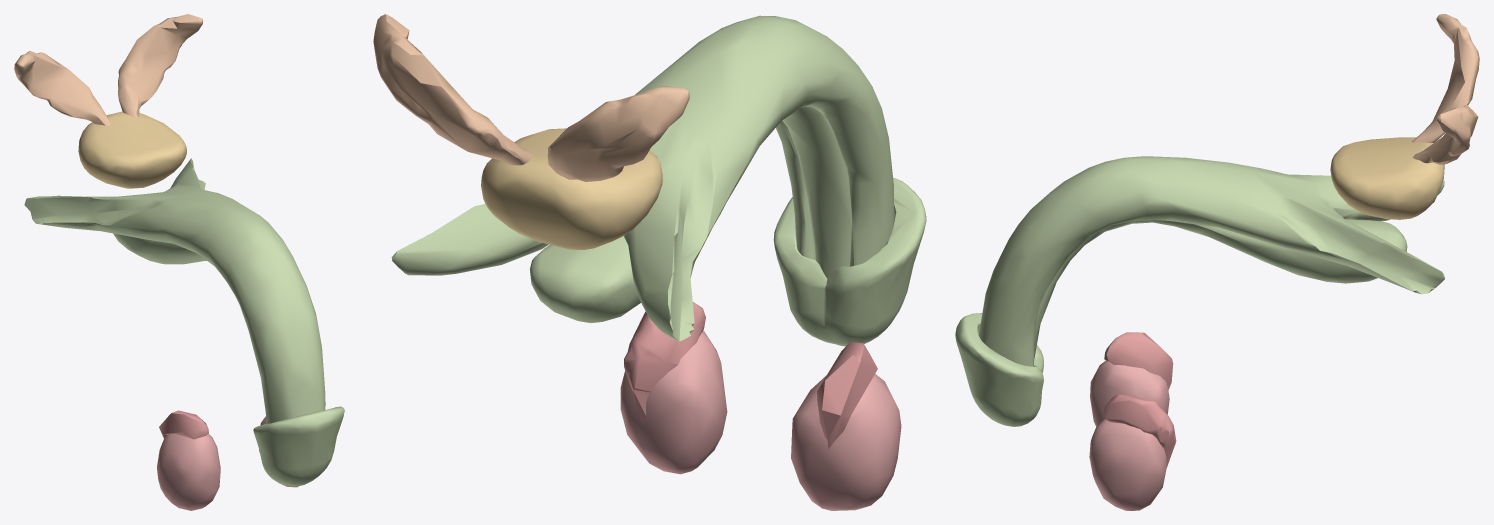
The model's file is male-reproductive.v1.glb.
3 views of the same model, side by side, from view 1: azimuth 30°, elevation 25°; view 2: azimuth 150°, elevation 25°; view 3: azimuth 270°, elevation 25° (orthographic). The views are drawn at different scales.
Visible parts, largest first — view 1: corpus_cavernosum_of_penis, prostate, glans_penis, left_seminal_vesicle, right_testis, right_seminal_vesicle, corpus_spongiosum_of_penis, right_epididymis; view 2: corpus_cavernosum_of_penis, corpus_spongiosum_of_penis, prostate, glans_penis, right_testis, left_testis, left_seminal_vesicle, right_seminal_vesicle, left_epididymis, right_epididymis; view 3: corpus_cavernosum_of_penis, prostate, glans_penis, left_testis, corpus_spongiosum_of_penis, right_seminal_vesicle, right_testis, left_epididymis, right_epididymis, left_seminal_vesicle.
Boxes of the visible parts, x1,y1,x2,y2 form: corpus_cavernosum_of_penis: [24, 158, 325, 424]; prostate: [78, 111, 186, 188]; glans_penis: [253, 406, 344, 486]; left_seminal_vesicle: [118, 14, 202, 117]; right_testis: [157, 433, 220, 510]; right_seminal_vesicle: [14, 50, 110, 125]; corpus_spongiosum_of_penis: [113, 233, 206, 264]; right_epididymis: [159, 410, 208, 439]; corpus_cavernosum_of_penis: [391, 15, 893, 341]; corpus_spongiosum_of_penis: [529, 106, 851, 323]; prostate: [481, 128, 662, 249]; glans_penis: [773, 177, 926, 346]; right_testis: [791, 373, 901, 510]; left_testis: [620, 331, 727, 474]; left_seminal_vesicle: [373, 14, 533, 165]; right_seminal_vesicle: [547, 86, 689, 181]; left_epididymis: [624, 302, 705, 423]; right_epididymis: [817, 342, 877, 448]; corpus_cavernosum_of_penis: [978, 156, 1444, 366]; prostate: [1330, 137, 1444, 219]; glans_penis: [955, 313, 1043, 426]; left_testis: [1089, 418, 1166, 510]; corpus_spongiosum_of_penis: [1033, 219, 1407, 362]; right_seminal_vesicle: [1412, 14, 1479, 142]; right_testis: [1090, 360, 1169, 426]; left_epididymis: [1103, 394, 1176, 468]; right_epididymis: [1104, 332, 1173, 390]; left_seminal_vesicle: [1413, 104, 1478, 164].
Size of the model in its own units: 0.0693 by 0.1286 by 0.146.
